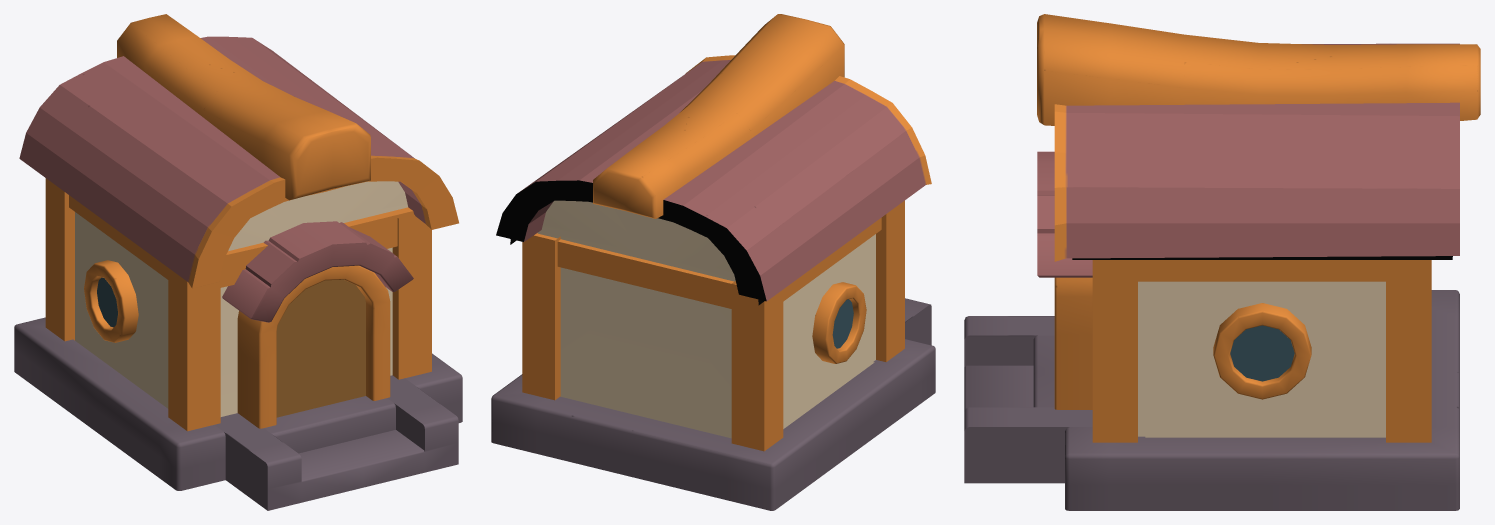
Rendered from Casa2.fbx.
3 renders of one model, left to right at view 1: azimuth 30°, elevation 25°; view 2: azimuth 150°, elevation 25°; view 3: azimuth 270°, elevation 25°, orthographic. The views are drawn at different scales.
Parts seen in each view (by area): view 1: Casa.Vermelha; view 2: Casa.Vermelha; view 3: Casa.Vermelha.
Part boxes in pixels (left/top/right/bottom): Casa.Vermelha: left=14, top=14, right=462, bottom=510; Casa.Vermelha: left=491, top=14, right=935, bottom=510; Casa.Vermelha: left=964, top=14, right=1480, bottom=510.
Bounding box in the file's own units: 506 × 564 × 661.
